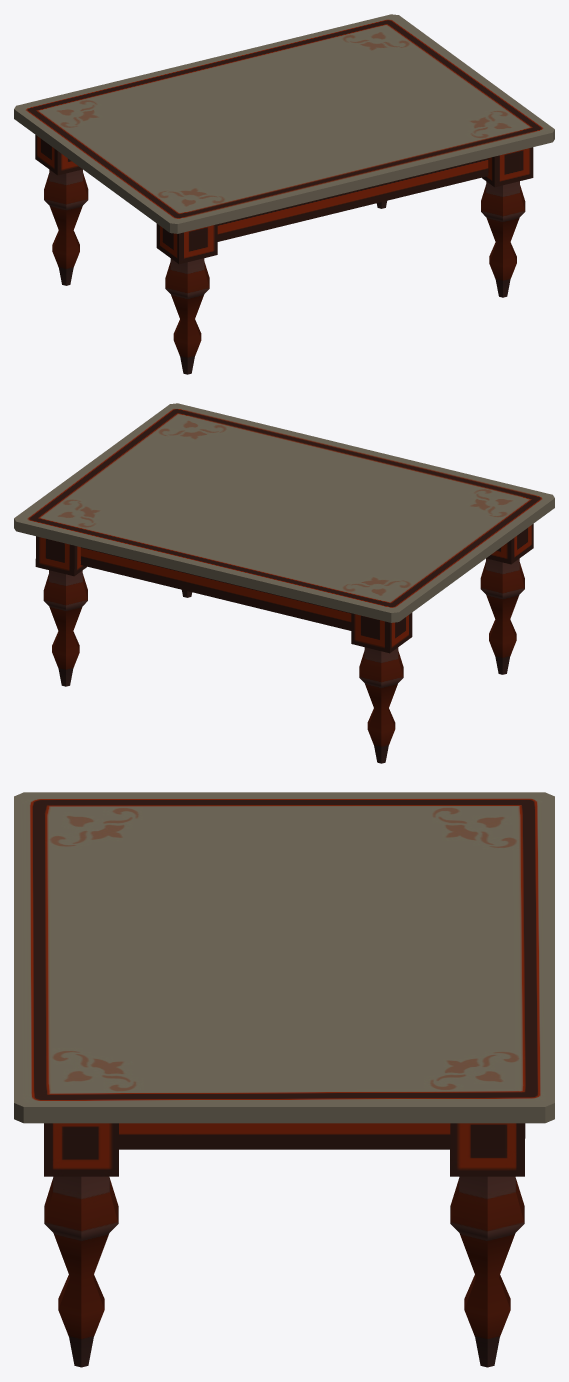
Rendered from VicTable.fbx.
The picture shows the model from 3 angles, top to bottom: view 1: azimuth 30°, elevation 25°; view 2: azimuth 150°, elevation 25°; view 3: azimuth 270°, elevation 25°; orthographic projection. The views are drawn at different scales.
Visible parts, largest first — view 1: VicTable; view 2: VicTable; view 3: VicTable.
Boxes of the visible parts, x1,y1,x2,y2 form: VicTable: [14, 14, 554, 374]; VicTable: [14, 403, 554, 763]; VicTable: [14, 792, 554, 1367].
Bounding box in the file's own units: 5.51 × 2.33 × 4.01.
1 material, 1 textured.
